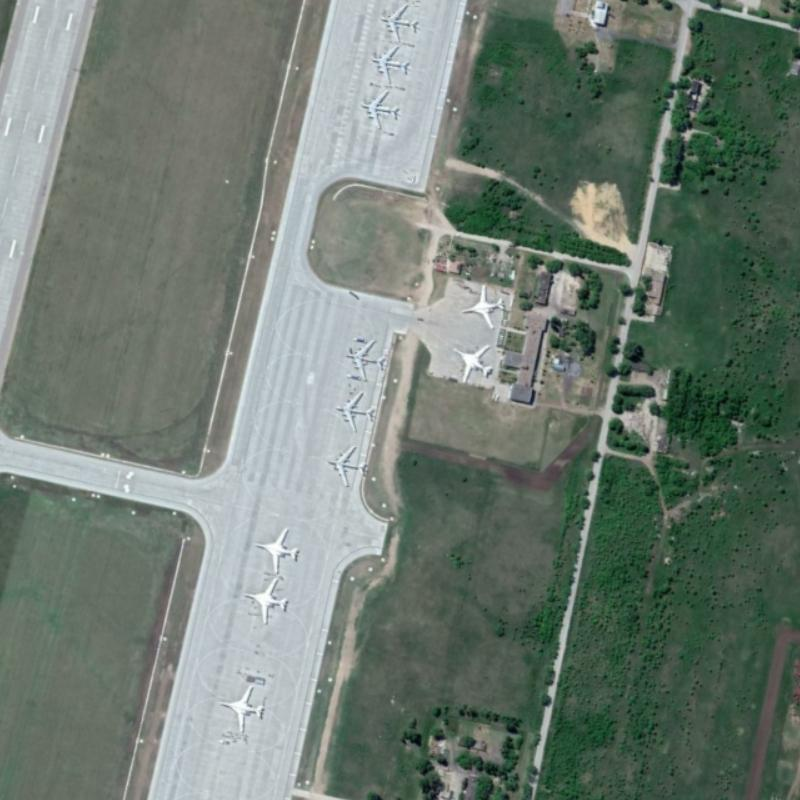A17: (342, 337, 388, 382), (355, 88, 402, 131), (333, 388, 377, 433), (324, 443, 368, 488), (378, 2, 420, 44), (369, 44, 411, 85)
A6: (214, 681, 266, 734), (240, 575, 290, 625), (251, 525, 299, 575), (459, 282, 506, 331), (447, 341, 494, 385)
